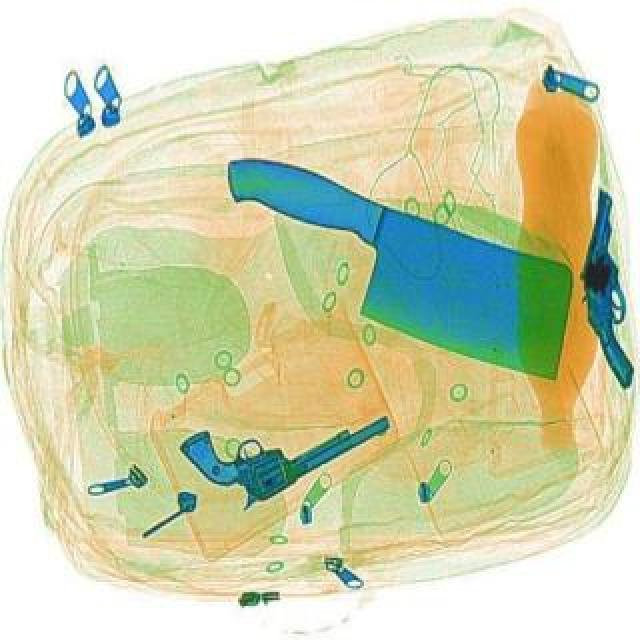gun: (172, 362, 398, 520), (578, 186, 634, 388)
knife: (188, 144, 596, 384)
